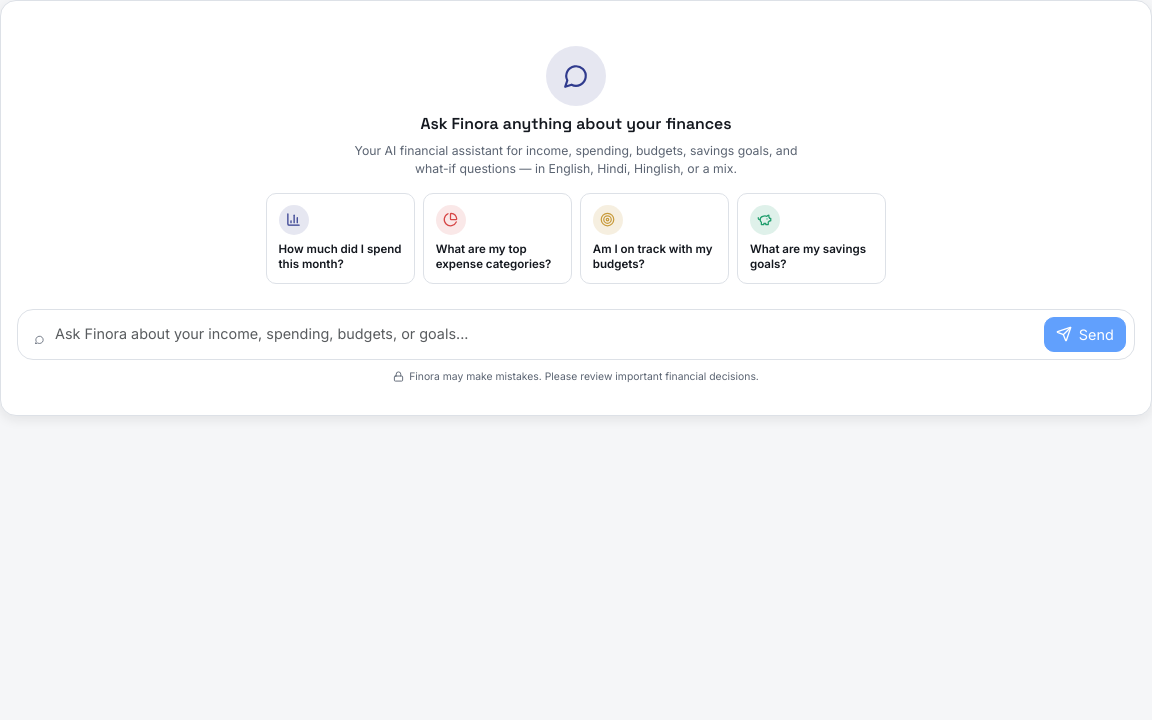
Test: FinoraChat › renders a returned what-if scenario using the backend's own numbers
This screenshot has width=1152, height=720.
Step 1. Type "What if I cut dining out by 20%?" into the text box named "message finora" → {"x": 546, "y": 334}, box [55,317,1037,352]
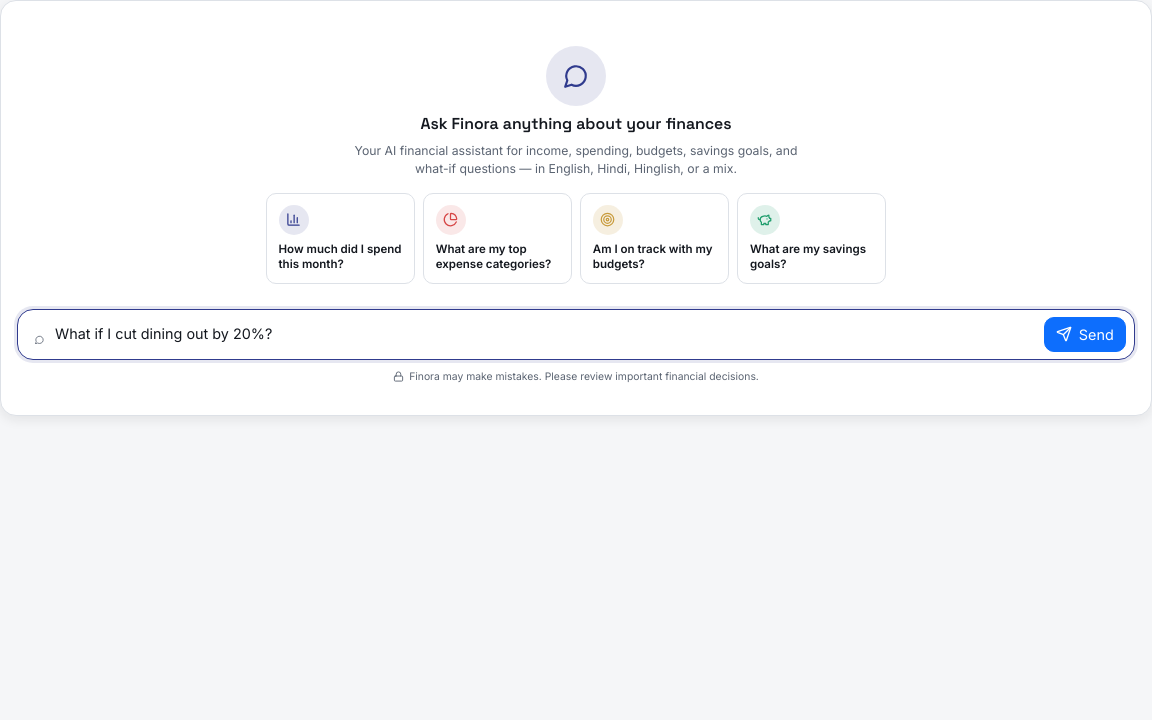
Step 2. Click the button "Send" → {"x": 1085, "y": 334}, box [1044,317,1126,352]
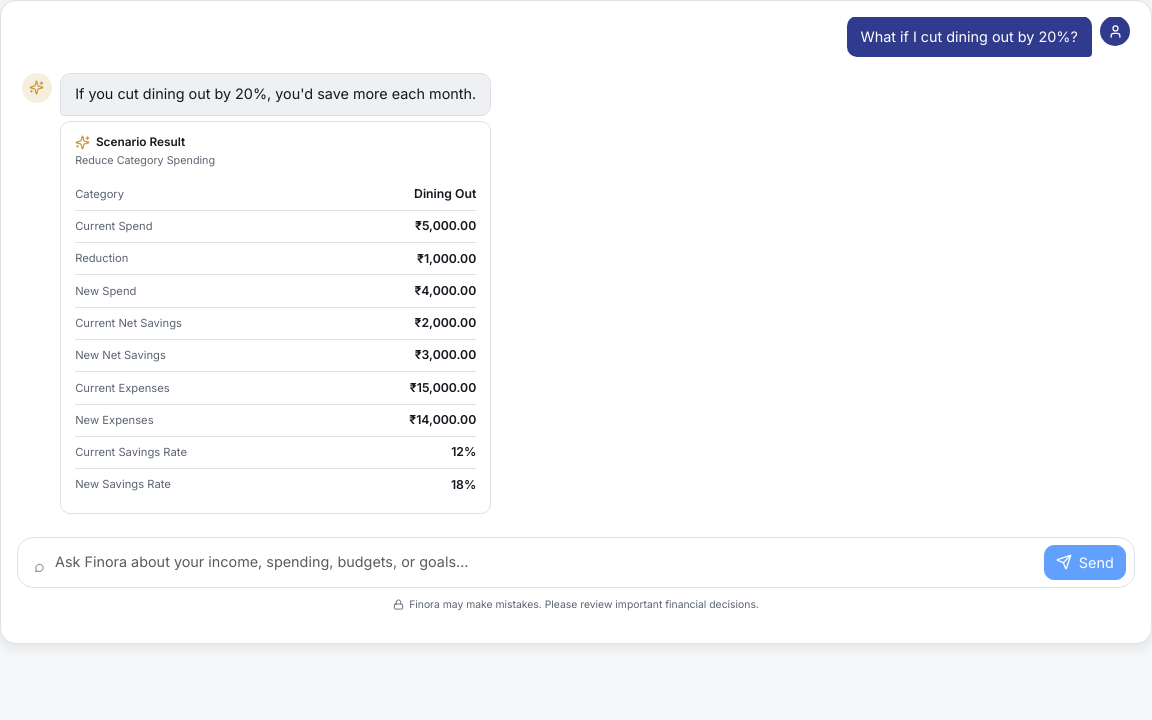
Result: the text "If you cut dining out by 20%, you'd save more each month." is shown at [75,85,476,102]
Result: the text "Reduce Category Spending" is shown at [75,154,215,167]
Result: the text "Reduction" is shown at [75,250,128,267]
